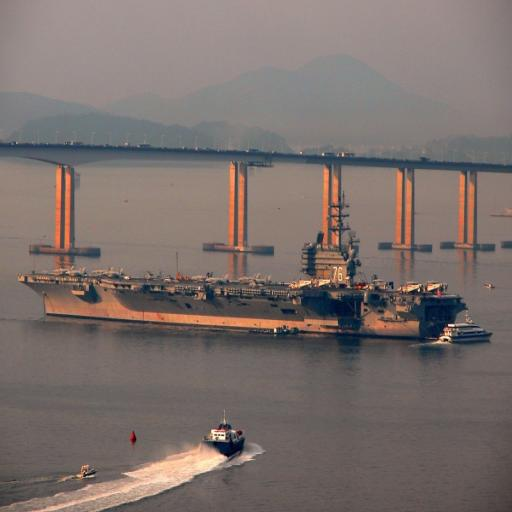Portanaves: (20, 236, 468, 345)
